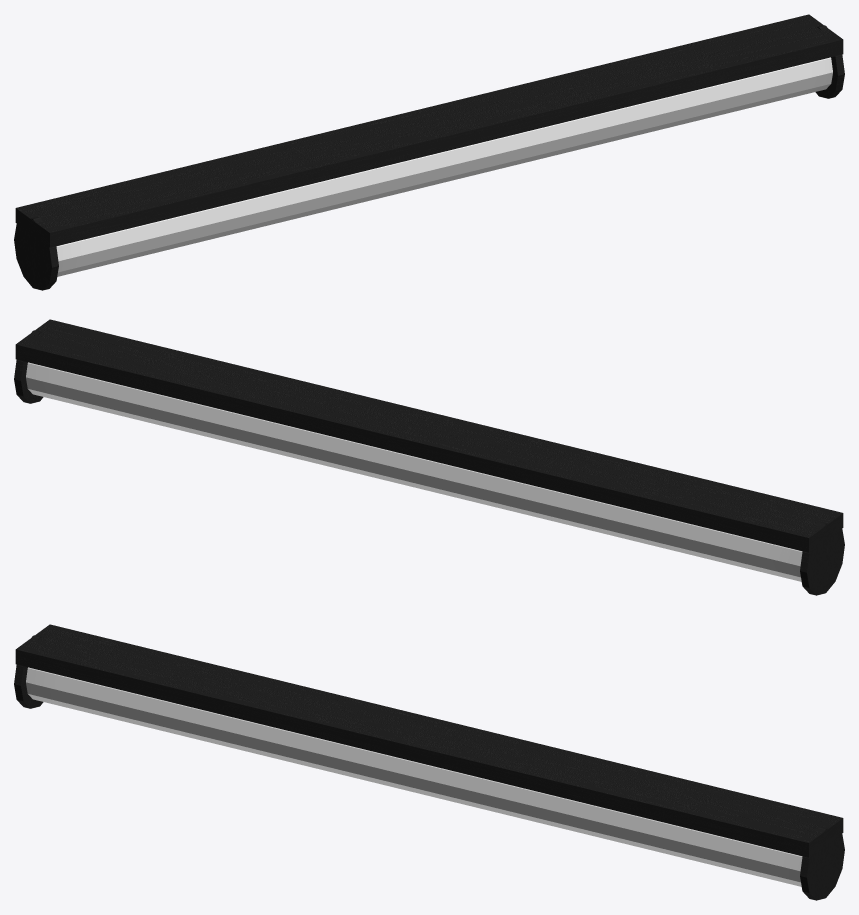
File: neon lamp.fbx
3 views of the same model, one above another, from view 1: azimuth 30°, elevation 25°; view 2: azimuth 150°, elevation 25°; view 3: azimuth 330°, elevation 25° (orthographic).
Visible parts, largest first — view 1: neon lamp; view 2: neon lamp; view 3: neon lamp.
Boxes of the visible parts, x1=… form: neon lamp: x1=14, y1=14, x2=844, y2=290; neon lamp: x1=14, y1=319, x2=844, y2=595; neon lamp: x1=14, y1=624, x2=844, y2=900.
Bounding box in the file's own units: 146 × 12.16 × 12.16.
2 materials, 2 textured.
